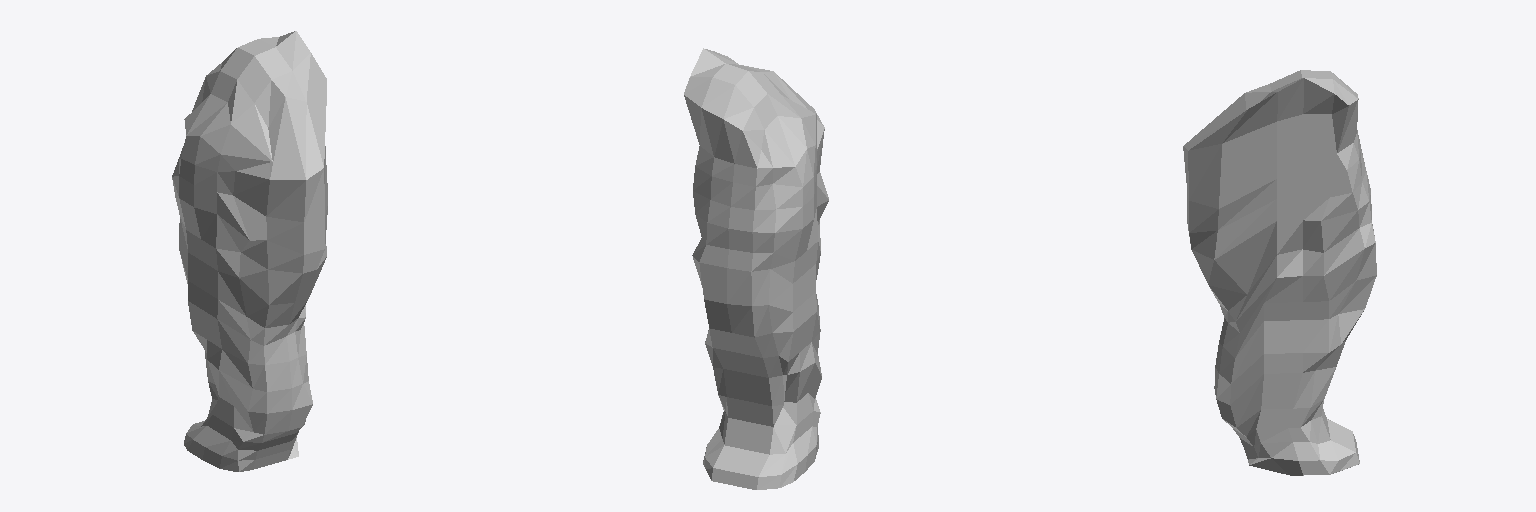
Rendered from rbl.obj.
3 views of the same model, side by side, from view 1: azimuth 30°, elevation 25°; view 2: azimuth 150°, elevation 25°; view 3: azimuth 270°, elevation 25° (orthographic).
Visible parts, largest first — view 1: polar_rb:r_b_leg group2; view 2: polar_rb:r_b_leg group2; view 3: polar_rb:r_b_leg group2.
Boxes of the visible parts, <box> form: polar_rb:r_b_leg group2: <box>172,31,327,471</box>; polar_rb:r_b_leg group2: <box>684,48,828,489</box>; polar_rb:r_b_leg group2: <box>1183,70,1376,475</box>.
Bounding box in the file's own units: 225 × 787 × 339.